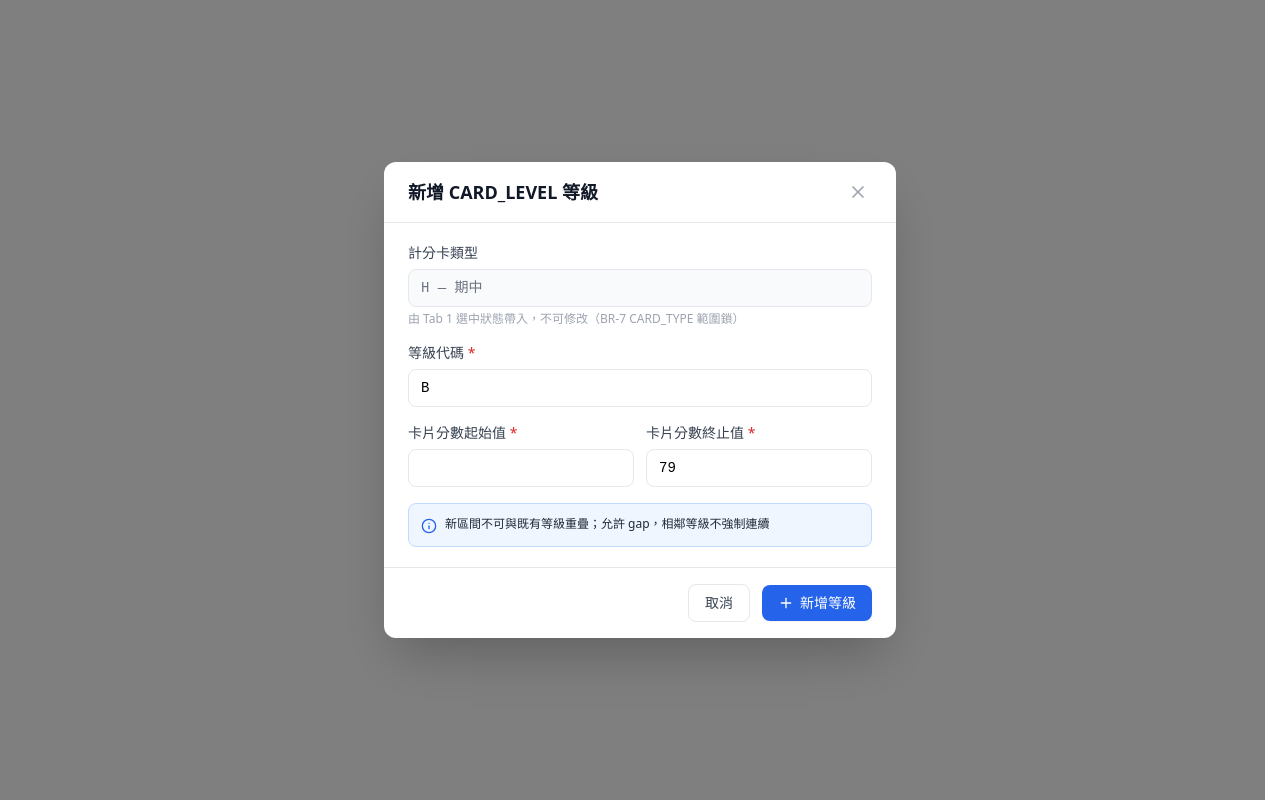
Test: CreateCardLevelModal — F055 v1.5 › TS-F055-M08：422 SCORING_RANGE_OVERLAP → 顯示分數欄位錯誤，modal 不關閉
將 scoreS 補上以越過必填檢查
Type "85" into the number field with test id "level-modal-score-s". click: (521, 468)
box: top-left (408, 449), bottom-right (634, 487)
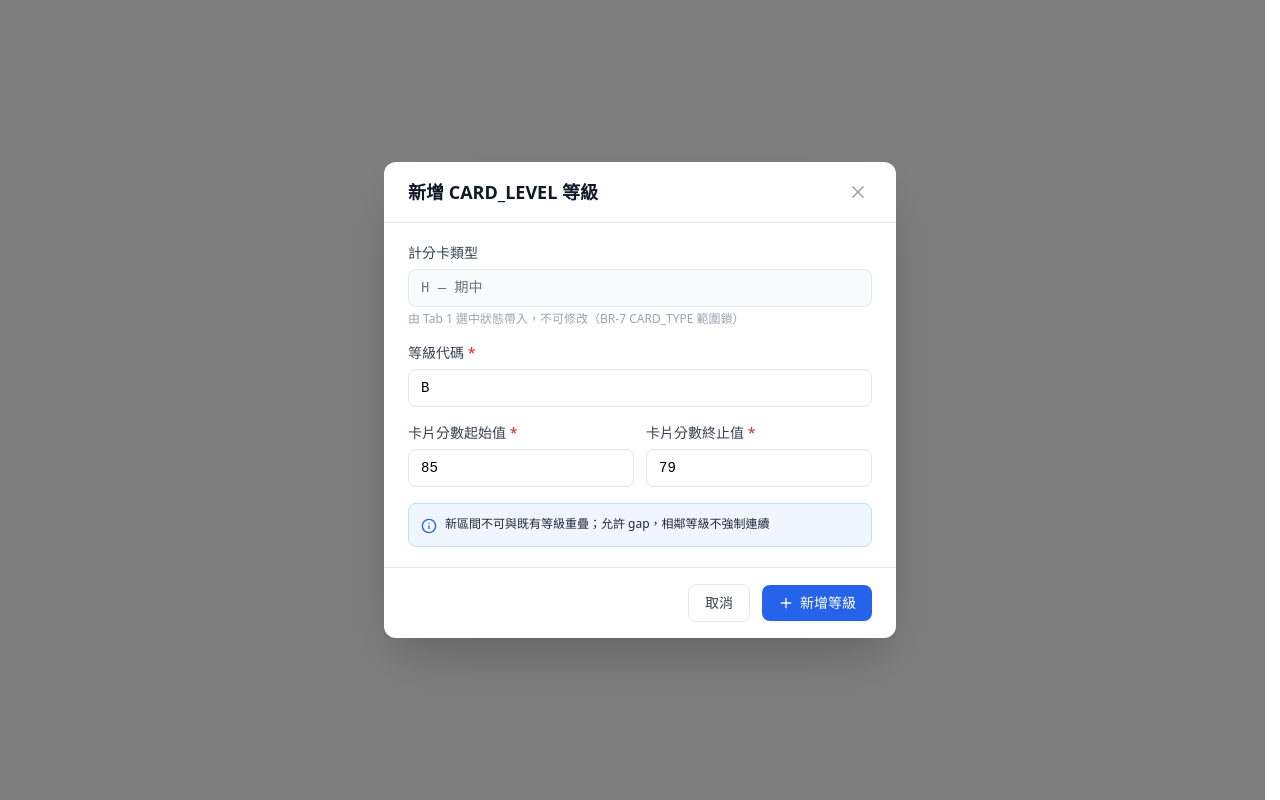
Replace the text in the number field with test id "level-modal-score-e" with "120". click: (759, 468)
box: top-left (646, 449), bottom-right (872, 487)
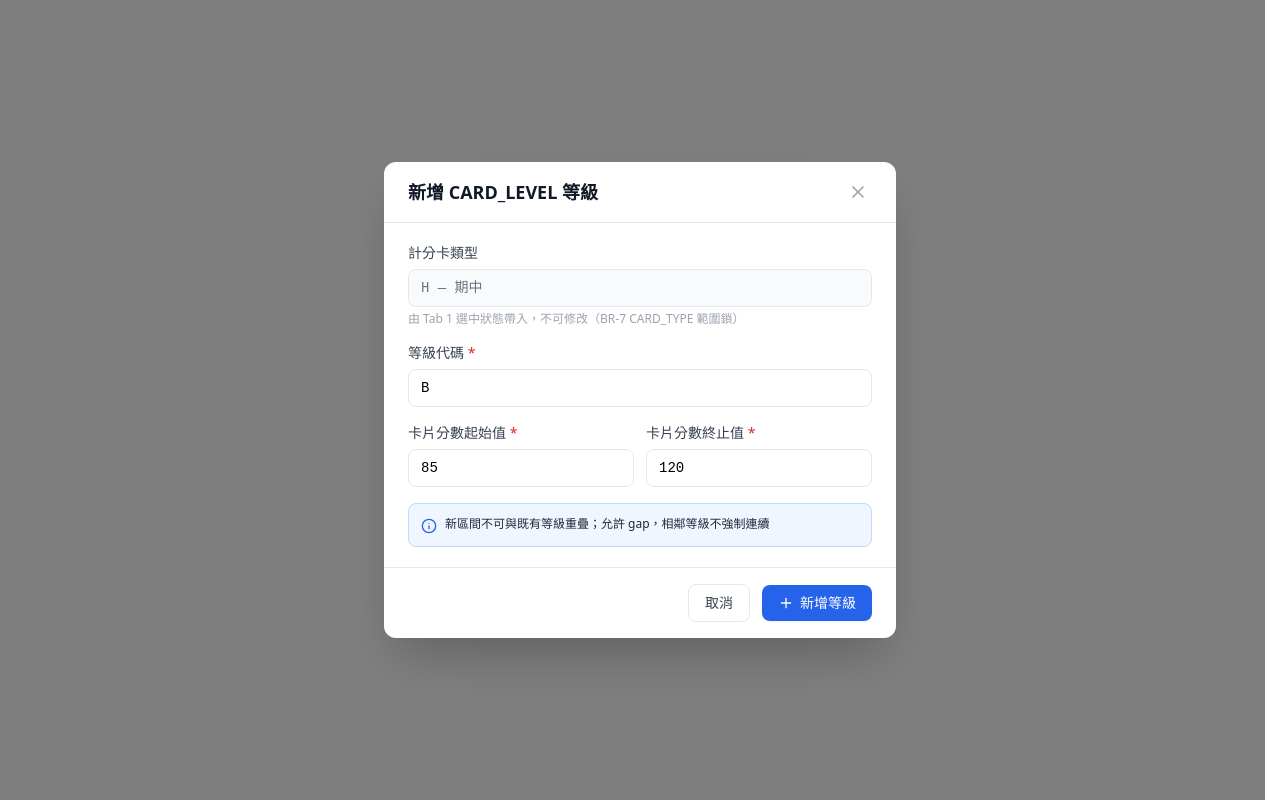
Click the button with test id "level-modal-submit". click: click(817, 603)
box: top-left (762, 585), bottom-right (872, 621)
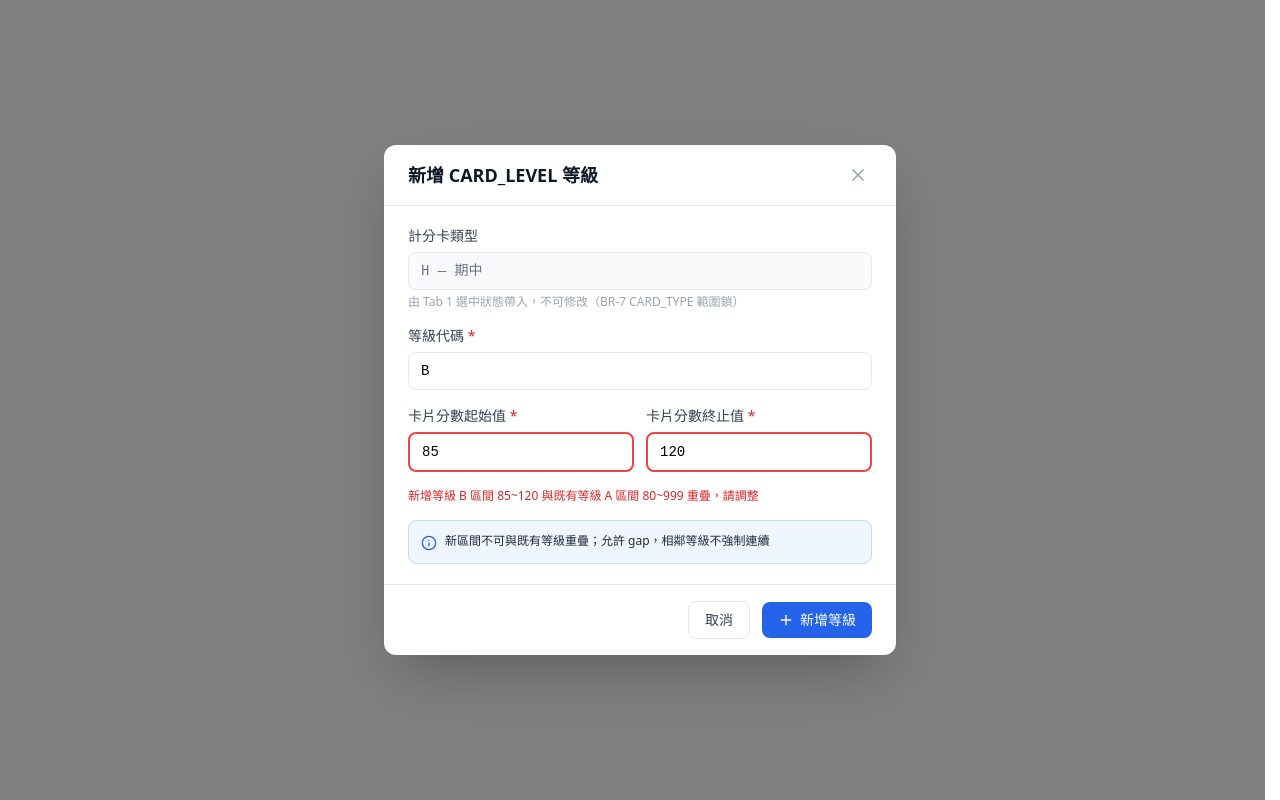
Check: the message with test id "level-modal-score-error" shows "重疊", box top-left (408, 487), bottom-right (759, 504)
